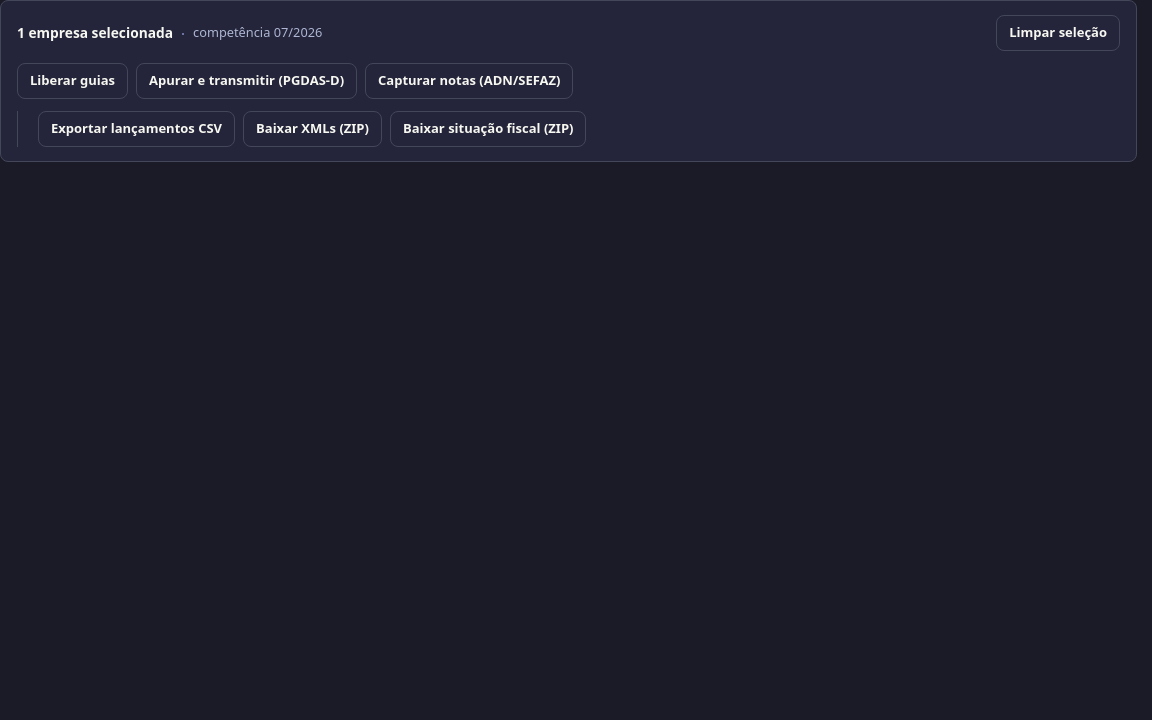
Test case: ⚠ PRÉVIA ANTES, CONFIRMAÇÃO DEPOIS — nada sai no clique do botão › ⚠ ninguém aparece em ENTRAM e em FICAM DE FORA ao mesmo tempo — o relatório decide
What coordinates should you click on to do the following:
click the button "Liberar guias"
I would click on:
 (72, 81)
Its box is [17,63,128,99].
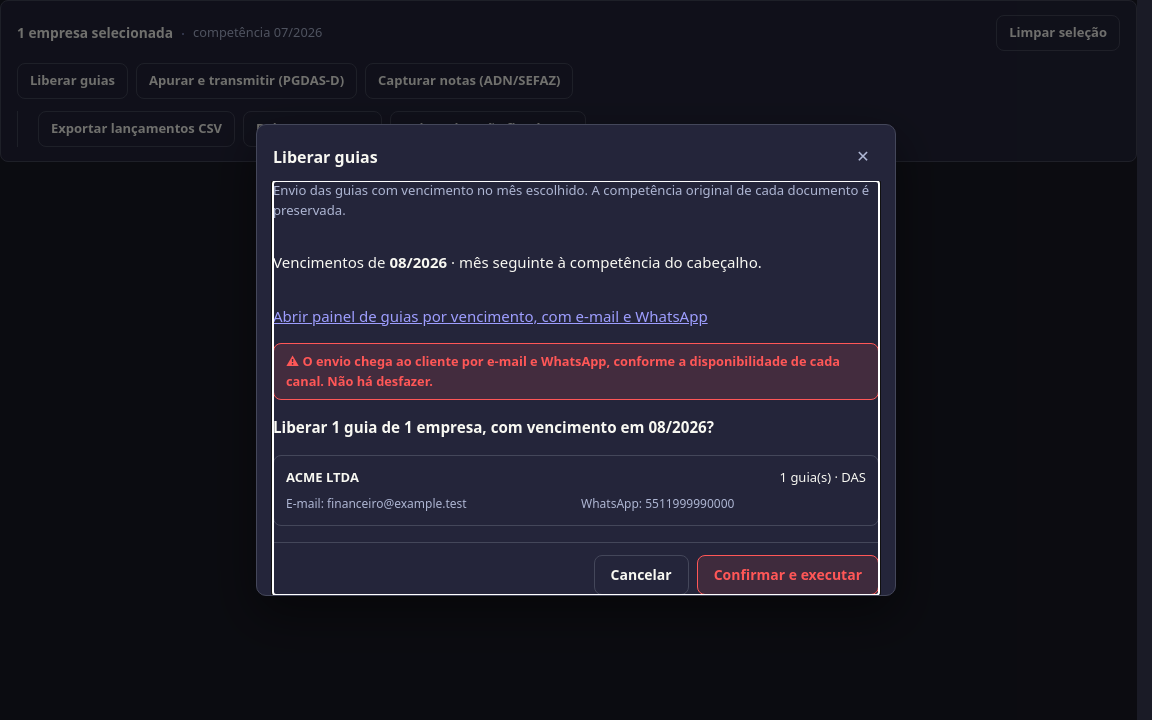
expect the text "Liberar 1 guia de 1 empresa, com vencimento em 08/2026?" is shown: met, box [273,417,714,437]
expect the text "ACME LTDA" is shown once: met, box [286,468,359,487]
